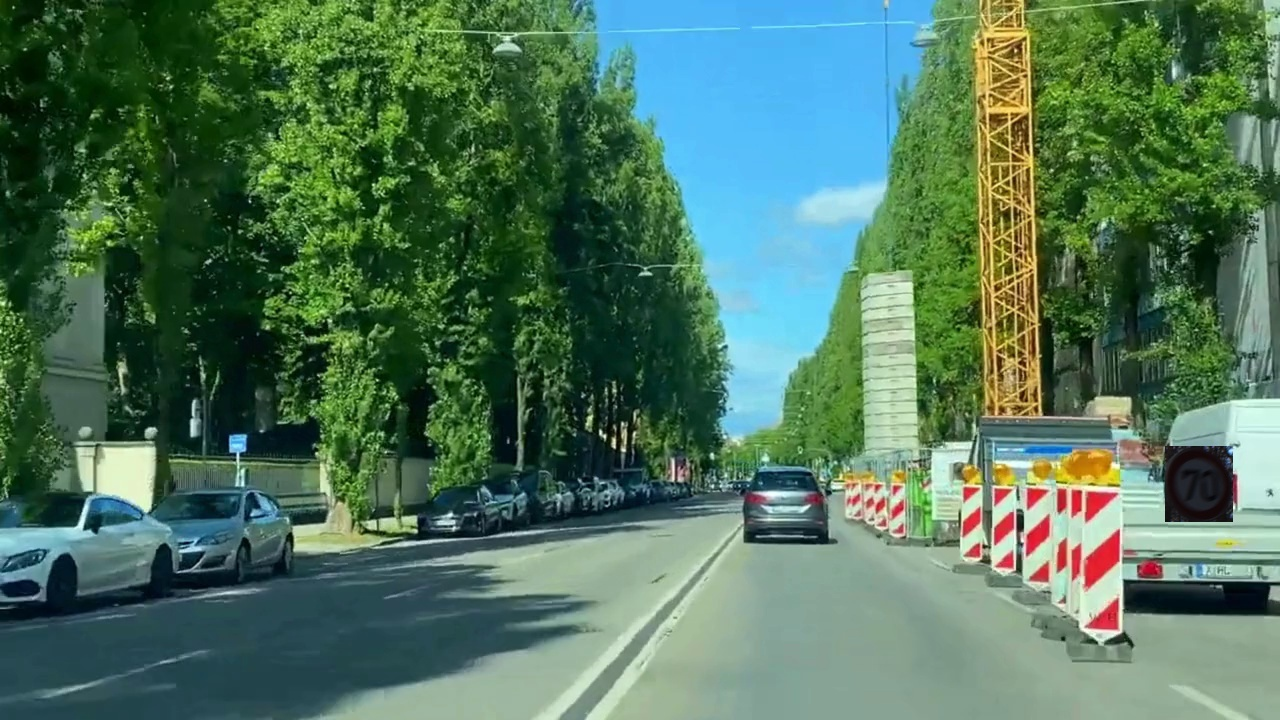Speed 70: (1165, 446, 1233, 522)
